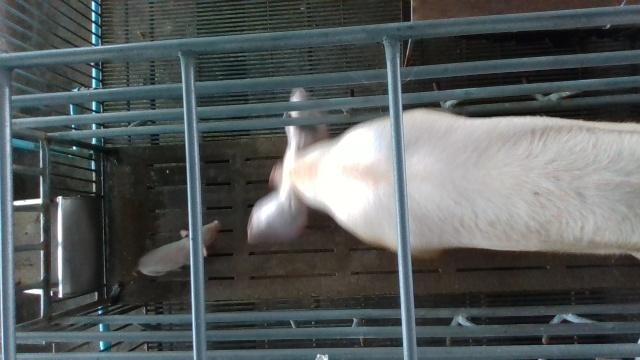piglet: (137, 220, 220, 275)
sow-stand: (246, 84, 640, 261)
